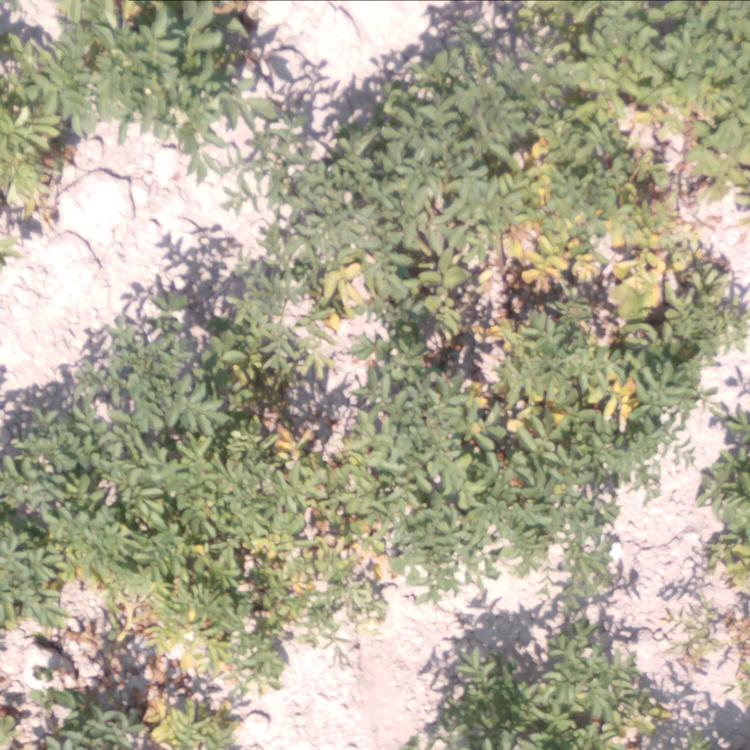healthy: (1, 394, 232, 547), (426, 622, 667, 750), (403, 453, 618, 592), (83, 3, 281, 133), (332, 66, 469, 203), (93, 282, 278, 371), (1, 26, 68, 227), (502, 3, 745, 52), (688, 411, 750, 575)
stressed: (6, 555, 219, 748), (244, 386, 385, 642), (607, 211, 732, 406), (494, 92, 593, 294), (604, 61, 743, 200), (281, 214, 471, 311), (478, 310, 589, 441)
